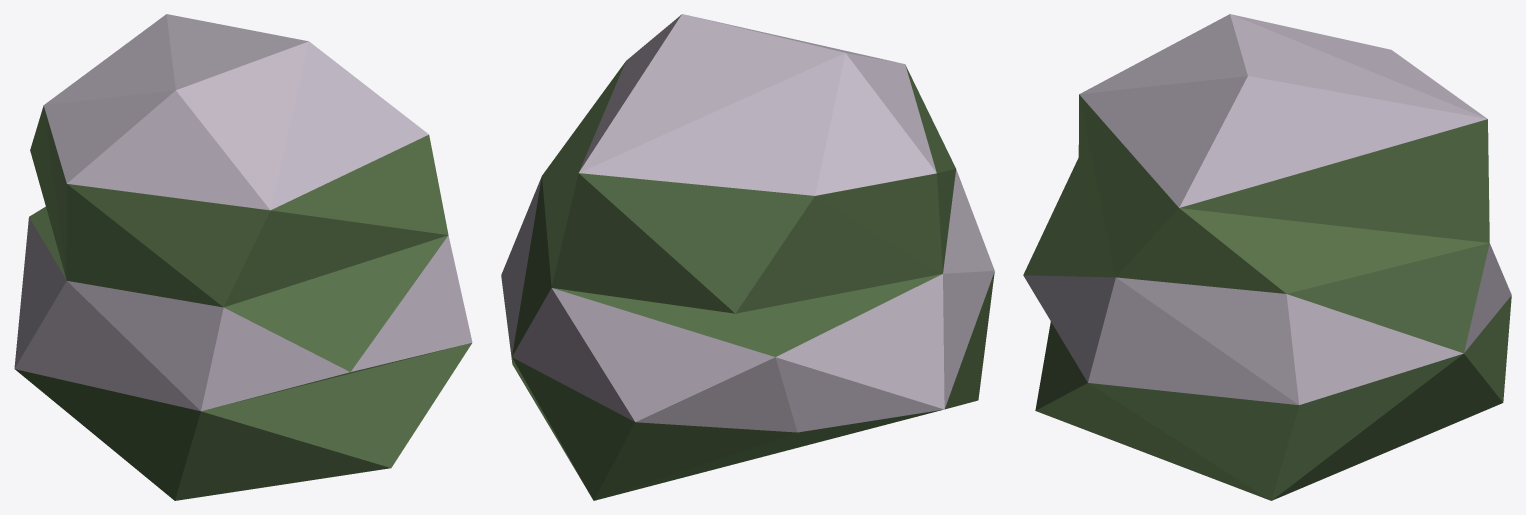
The model's file is Bush_Snow_2.lod3.glb.
3 views of the same model, side by side, from view 1: azimuth 30°, elevation 25°; view 2: azimuth 150°, elevation 25°; view 3: azimuth 270°, elevation 25° (orthographic). The views are drawn at different scales.
Visible parts, largest first — view 1: Bush_Snow_2; view 2: Bush_Snow_2; view 3: Bush_Snow_2.
Boxes of the visible parts, box(x1,y1,x2,y2) form: Bush_Snow_2: box(14, 14, 472, 500); Bush_Snow_2: box(501, 14, 994, 500); Bush_Snow_2: box(1023, 14, 1511, 500).
Bounding box in the file's own units: 1.31 × 1.08 × 1.32.
